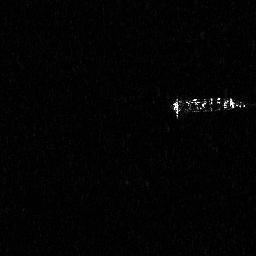ship: (169, 95, 247, 121)
